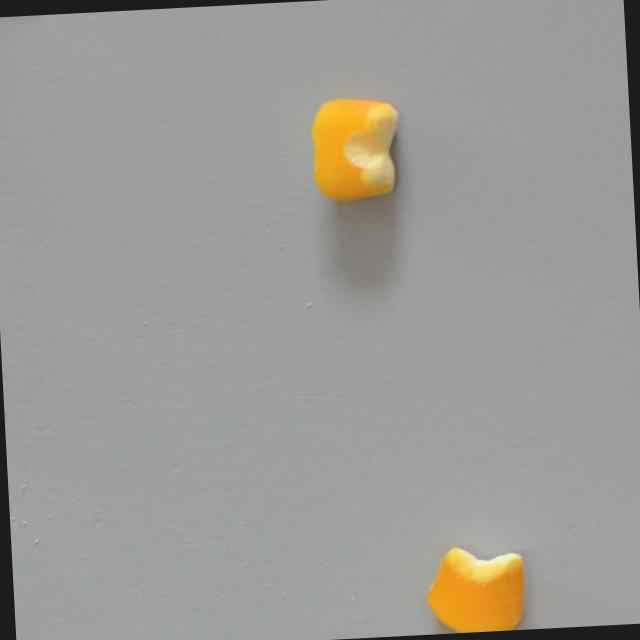no_canjicado: (308, 96, 405, 204), (422, 542, 527, 635)
